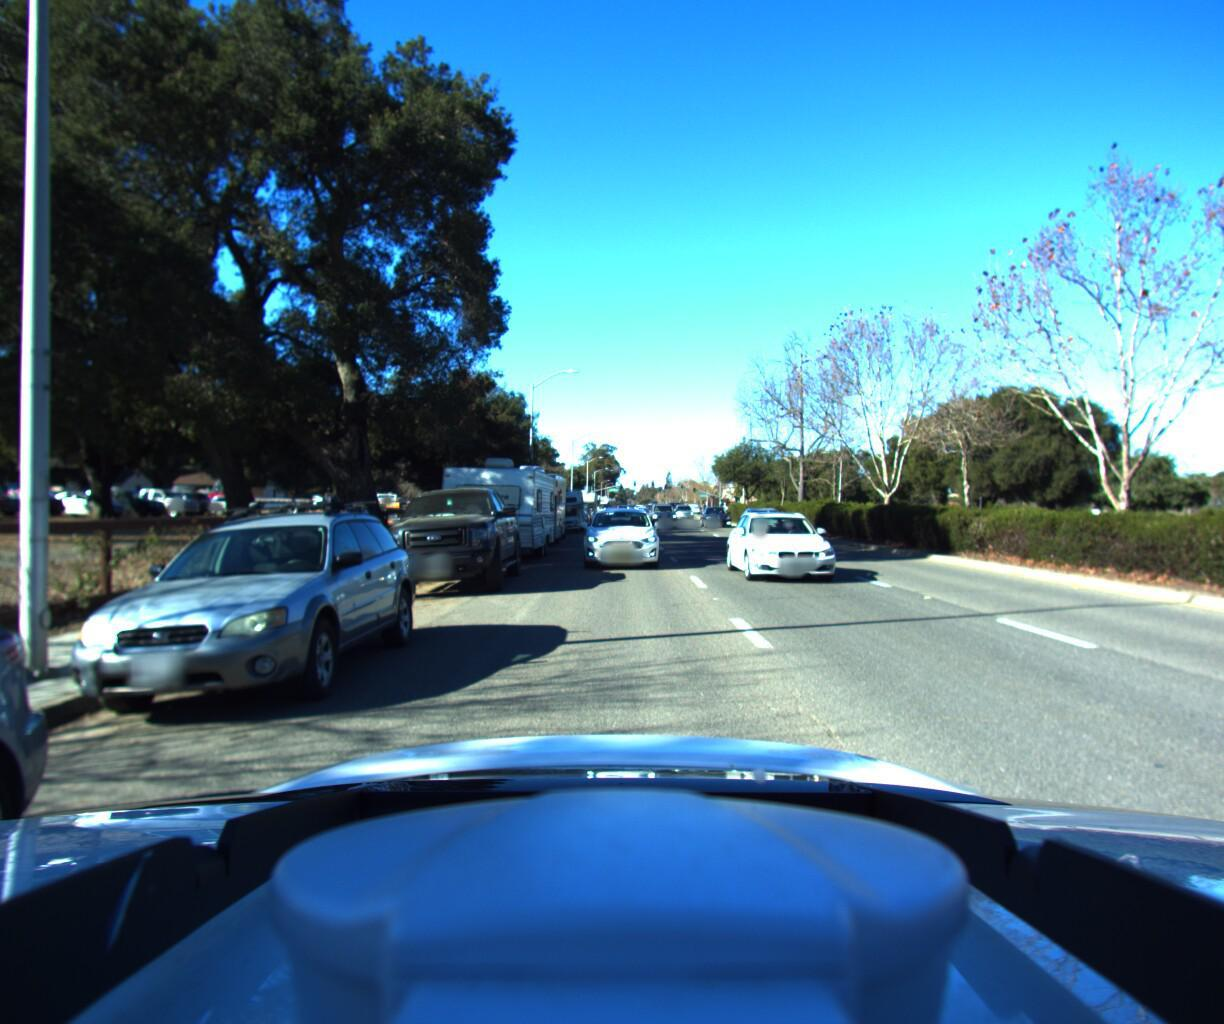car: (20, 493, 424, 743), (367, 480, 523, 603), (730, 508, 862, 597), (578, 504, 655, 573), (736, 504, 802, 546), (645, 500, 676, 528), (700, 504, 736, 528), (674, 504, 696, 521)
other_vehicle: (427, 454, 553, 571), (475, 457, 564, 552), (537, 484, 584, 536), (563, 488, 598, 522)
